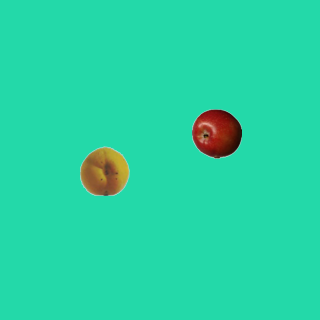Apple Braeburn: (191, 108, 241, 158)
Peach 2: (79, 145, 129, 195)
